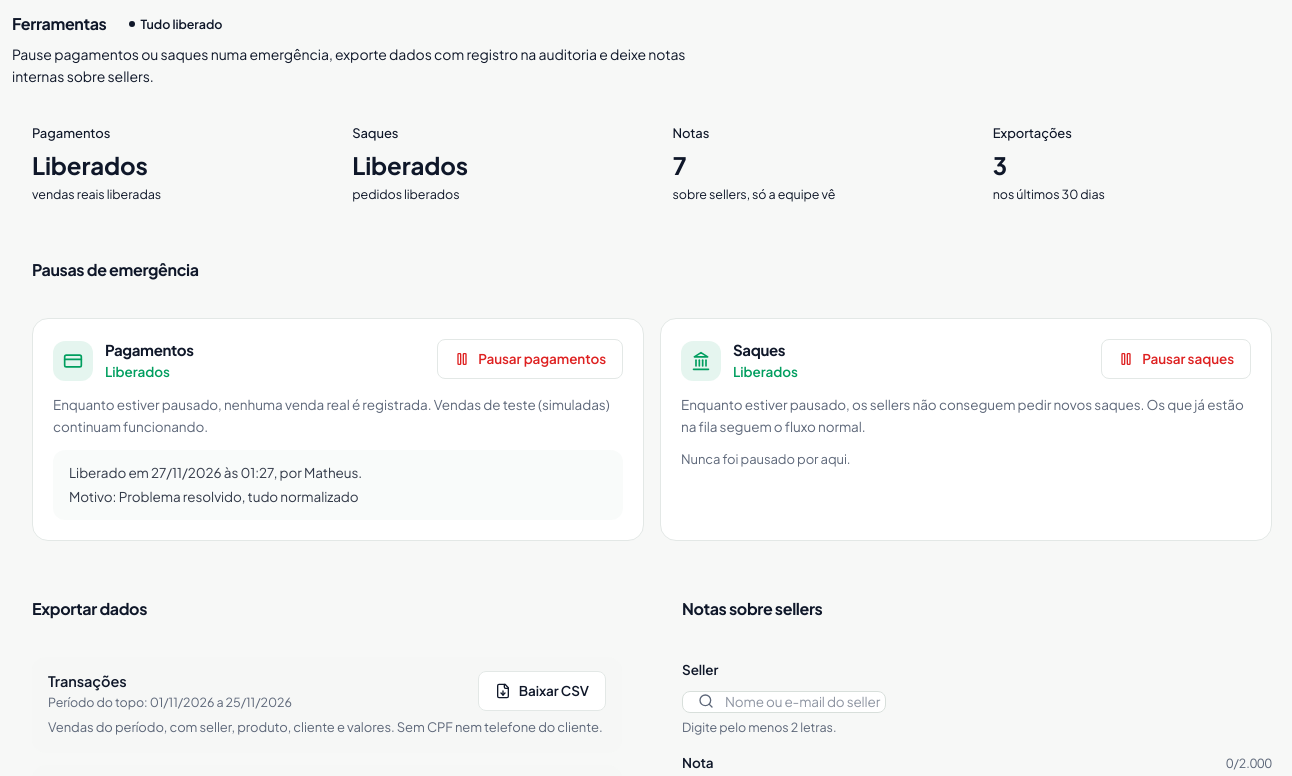
Test: tela de Ferramentas › erro do servidor aparece no cartão e não anuncia sucesso
The image size is (1292, 776).
Expected: the element "Pagamentos" is shown, left=32, top=318, right=644, bottom=541
Click the button "Pausar pagamentos" at (530, 359), box left=437, top=339, right=623, bottom=379
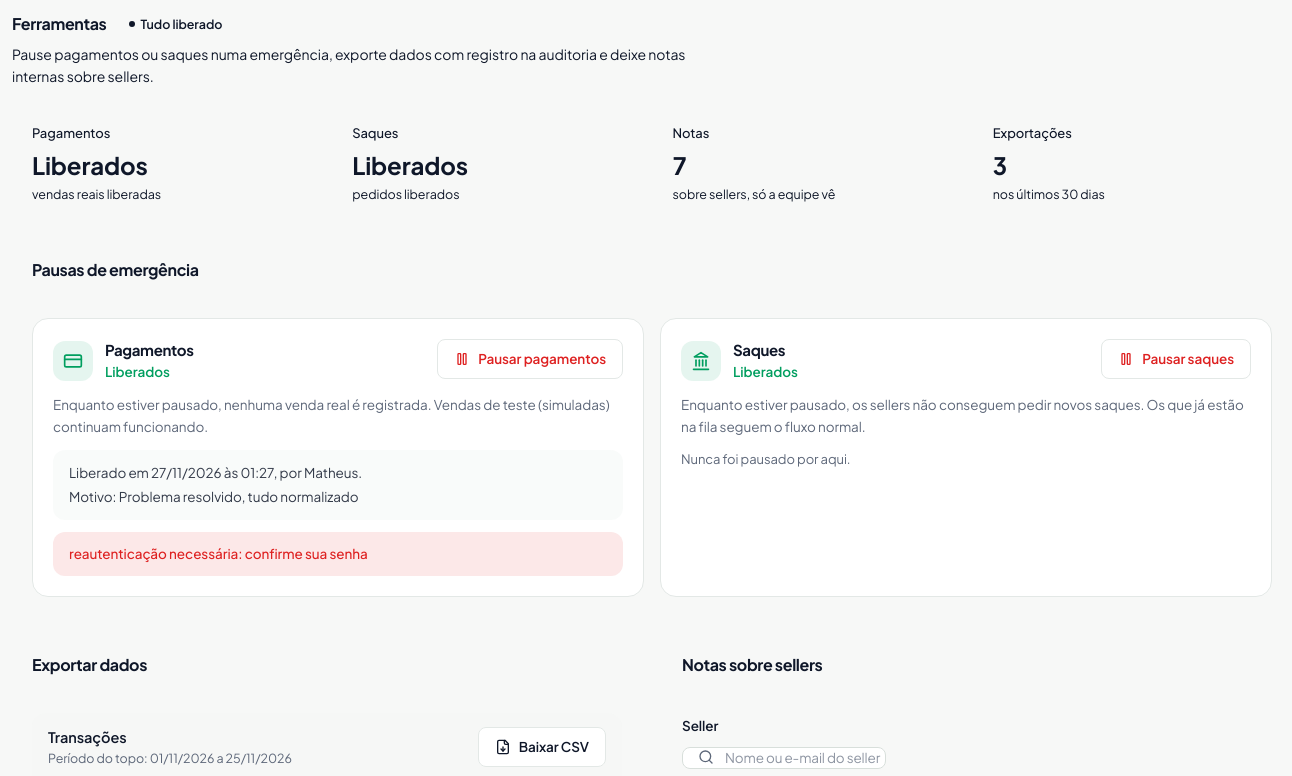
Expected: the 3rd text "Liberados" is shown, left=105, top=363, right=170, bottom=380
Result: the message shows "reautenticação necessária" at left=69, top=545, right=368, bottom=562
